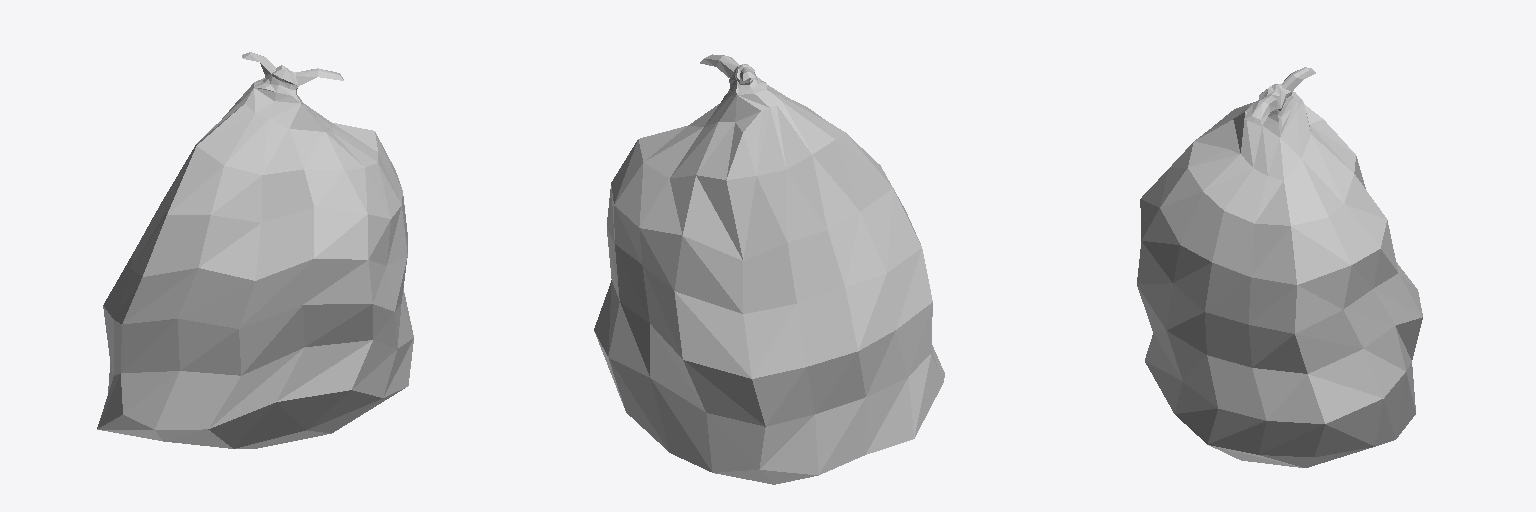
The model's file is Garbage Bag obj.obj.
The picture shows the model from 3 angles: view 1: azimuth 30°, elevation 25°; view 2: azimuth 150°, elevation 25°; view 3: azimuth 270°, elevation 25°; orthographic projection.
Visible parts, largest first — view 1: Box09; view 2: Box09; view 3: Box09.
Part boxes in pixels (bbox=[...]): Box09: bbox=[97, 52, 413, 448]; Box09: bbox=[594, 54, 944, 484]; Box09: bbox=[1137, 67, 1422, 467].
Size of the model in its own units: 52.33 by 62.32 by 42.15.